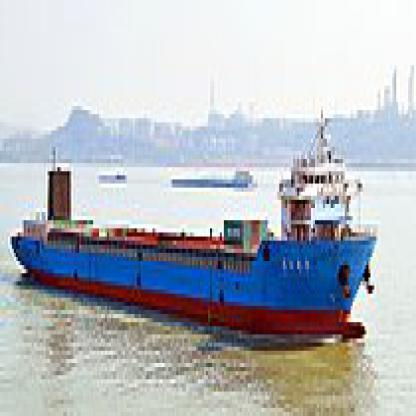Container Ship: (9, 106, 379, 343)
